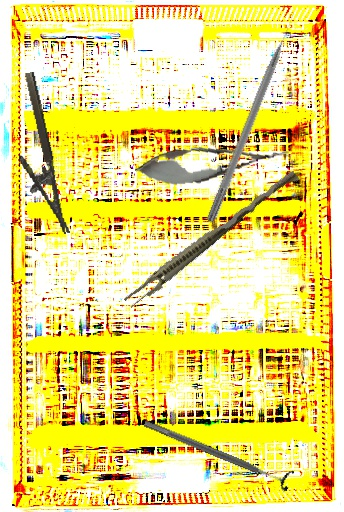Fixation Ring: (140, 411, 295, 494)
Micro Scissor: (133, 133, 292, 192)
Needle Holder: (2, 71, 70, 240)
Pusher: (205, 10, 301, 226)
Tissue Forceps: (122, 163, 300, 313)
